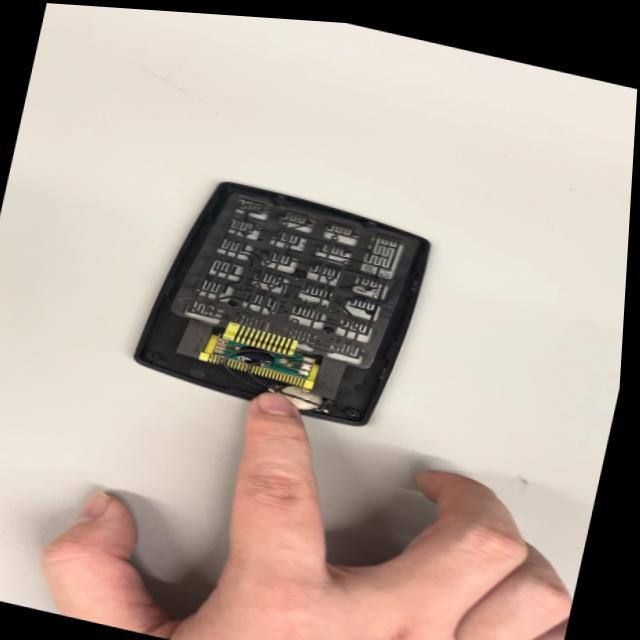front_panel: (142, 143, 454, 451)
